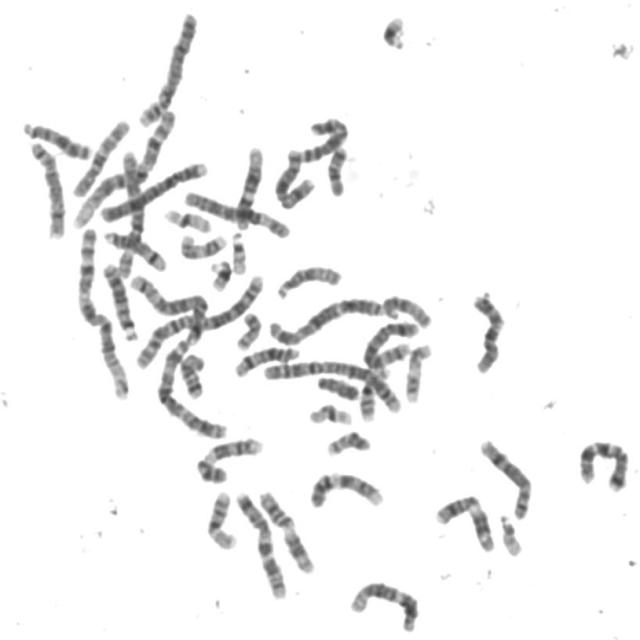A1: (72, 113, 182, 234), (72, 219, 134, 402)
A2: (129, 268, 266, 372), (258, 352, 403, 417)
A3: (150, 300, 232, 442), (263, 290, 387, 347)
B4: (83, 154, 212, 228), (133, 6, 199, 129)
B5: (125, 274, 203, 348), (358, 316, 421, 373)
C10: (67, 112, 132, 199), (467, 286, 509, 376)
C11: (254, 484, 318, 577), (430, 489, 498, 554)
C12: (345, 574, 422, 634), (230, 140, 266, 231)
C6: (180, 184, 294, 240), (114, 146, 145, 278)
C7: (229, 485, 290, 600), (574, 433, 632, 493)
C8: (475, 433, 535, 521), (24, 135, 68, 241)
C9: (192, 431, 266, 486), (306, 466, 387, 511)
D13: (97, 255, 140, 342), (17, 115, 94, 161)
D14: (100, 225, 169, 272), (230, 339, 302, 378)
D15: (271, 258, 345, 300), (378, 289, 434, 329)
E16: (202, 485, 240, 552), (356, 361, 393, 423)
E17: (402, 338, 434, 404), (176, 228, 229, 260)
E18: (176, 348, 207, 401), (323, 141, 351, 198)
F19: (160, 201, 213, 234), (305, 397, 355, 427)
F20: (323, 425, 373, 458), (232, 306, 264, 352)
G21: (377, 8, 410, 52), (205, 254, 235, 292)
G22: (495, 508, 525, 558), (227, 227, 250, 276)
X: (270, 142, 319, 212)
Y: (313, 371, 361, 402)
